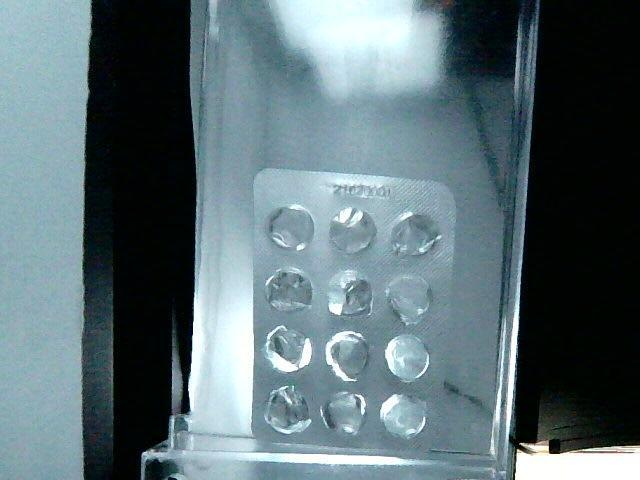Light Front: (249, 169, 458, 461)
No Pill Front: (388, 210, 441, 260), (384, 274, 434, 327), (327, 265, 374, 319), (264, 268, 315, 317), (266, 203, 314, 253), (330, 204, 378, 254), (263, 328, 313, 376), (261, 388, 311, 436), (386, 334, 433, 384), (381, 393, 428, 441), (325, 331, 369, 381), (323, 391, 365, 437)
